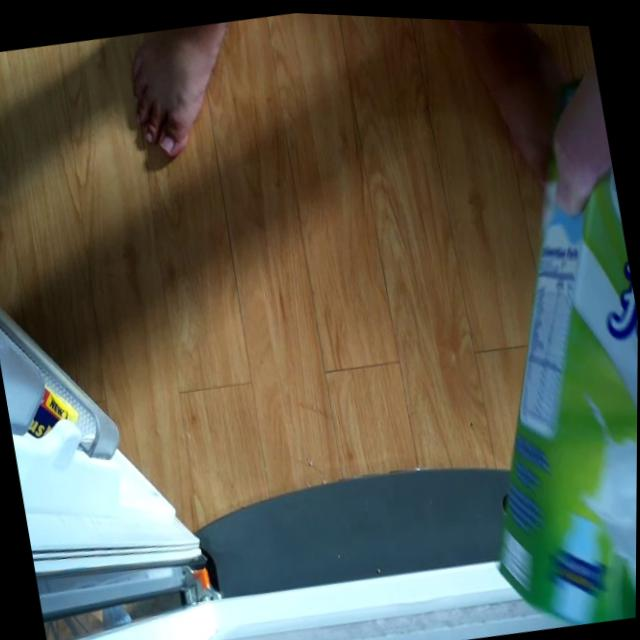milk: (415, 75, 640, 633)
